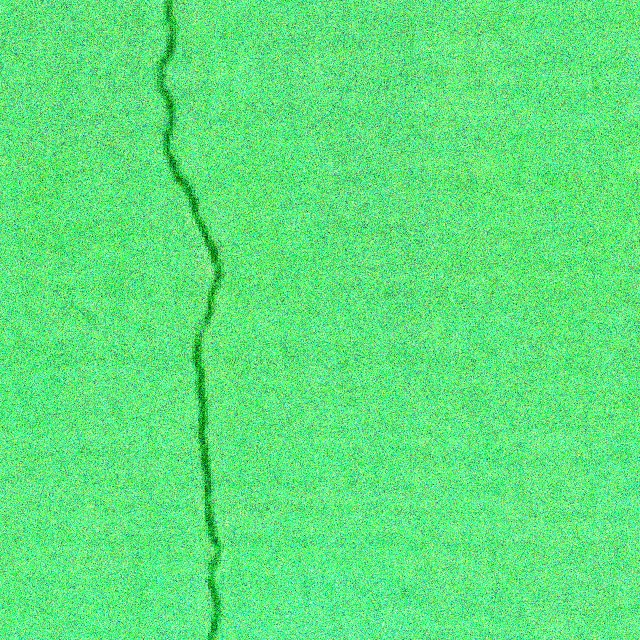SurfaceCrack: (118, 0, 272, 640)
